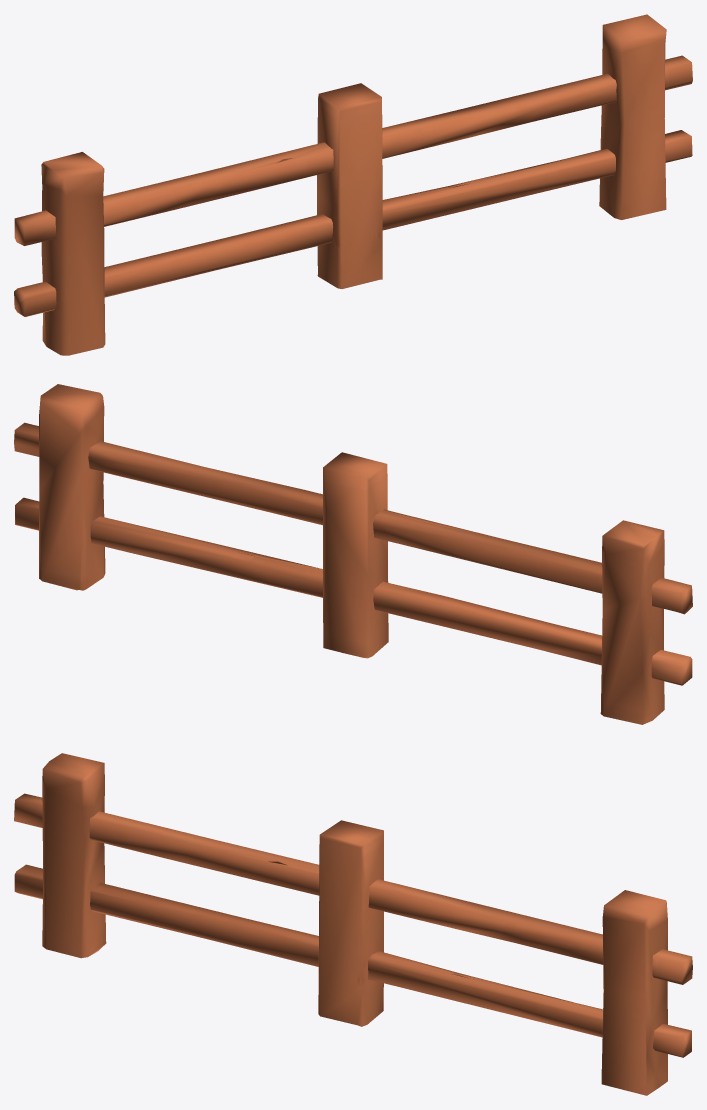
Rendered from fence_rail_2.glb.
3 renders of one model, top to bottom at view 1: azimuth 30°, elevation 25°; view 2: azimuth 150°, elevation 25°; view 3: azimuth 330°, elevation 25°, orthographic.
Visible parts, largest first — view 1: ЦІЛЬ; view 2: ЦІЛЬ; view 3: ЦІЛЬ.
Boxes of the visible parts, x1=… form: ЦІЛЬ: x1=14, y1=14, x2=692, y2=355; ЦІЛЬ: x1=14, y1=384, x2=692, y2=724; ЦІЛЬ: x1=14, y1=753, x2=692, y2=1095.
Bounding box in the file's own units: 1 × 0.2605 × 0.0633.
Materials: 1 (1 with a texture image).
